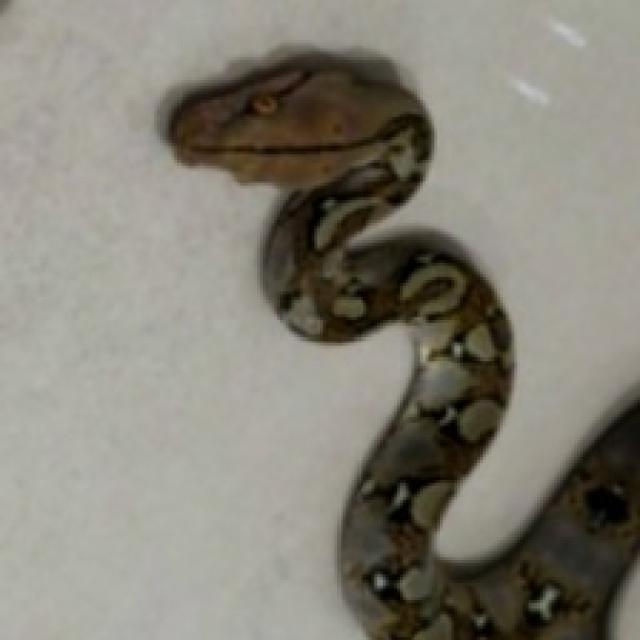reticulated python: (166, 51, 637, 637)
